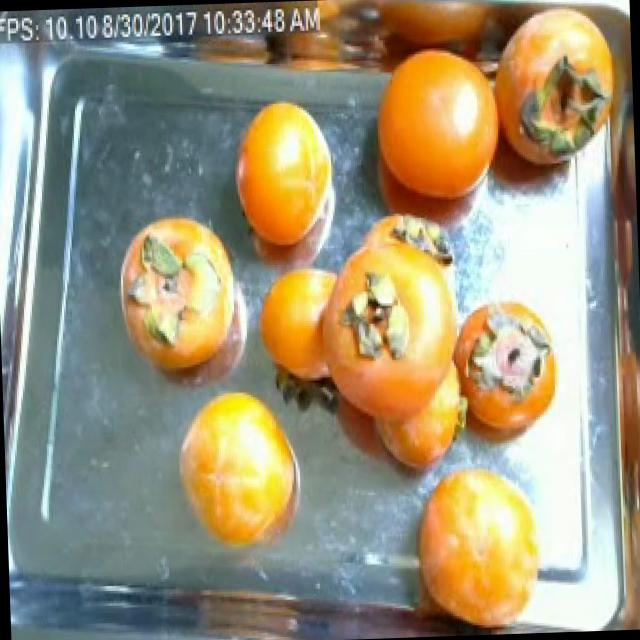Fruit: (395, 446, 563, 638), (162, 370, 314, 571), (108, 202, 240, 392), (218, 88, 350, 266), (244, 246, 386, 407)
